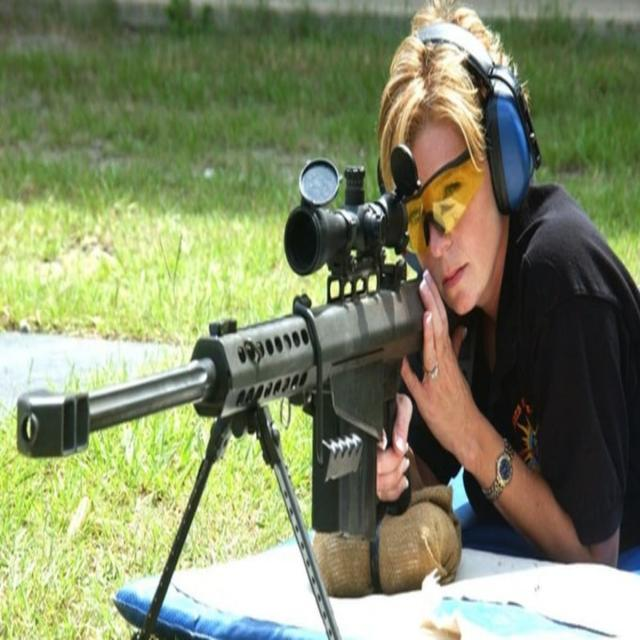rifle: (5, 146, 438, 637)
